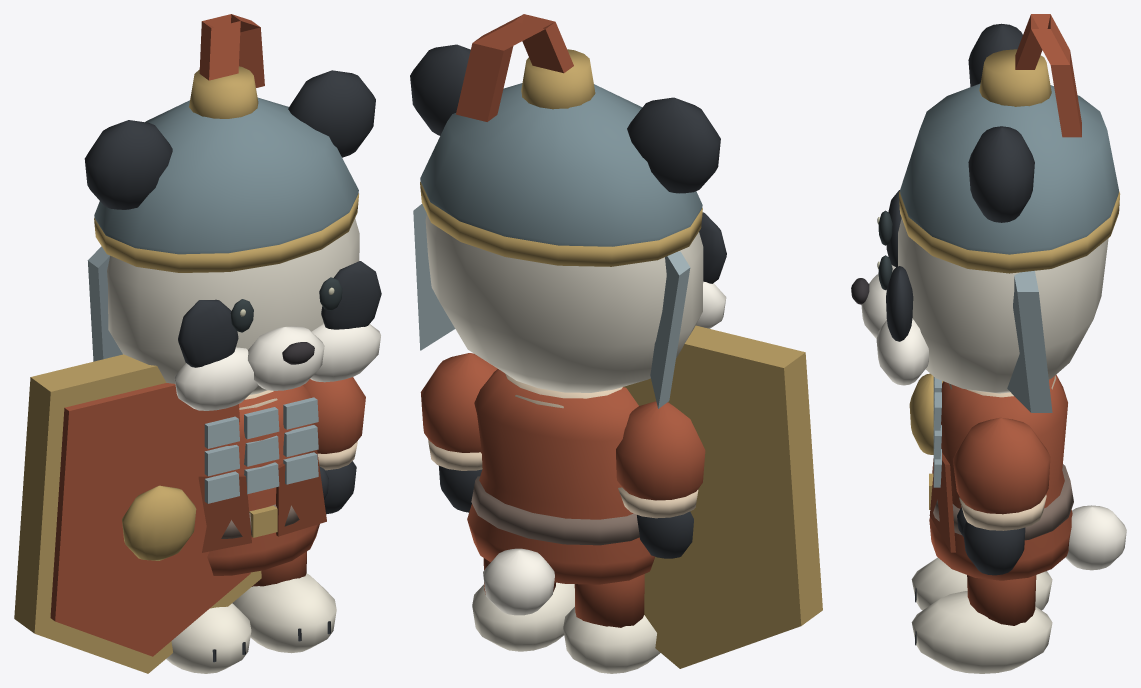
Rendered from guard.glb.
3 renders of one model, left to right at view 1: azimuth 30°, elevation 25°; view 2: azimuth 150°, elevation 25°; view 3: azimuth 270°, elevation 25°, orthographic. The views are drawn at different scales.
Parts seen in each view (by area): view 1: Regional shield face, Regional helmet, Animal cheek head, Shield gold rim, Panda round ear, Short folded tunic, Soft animal paw.001, Helmet brow band, Panda round ear.001, Shield boss, Soft animal paw, Red silk tassel (+26 smaller); view 2: Shield gold rim, Regional helmet, Animal cheek head, Short folded tunic, Puff sleeve, Panda round ear, Red silk tassel, Helmet brow band, Puff sleeve.001, Broad leather belt, Soft animal paw, Soft animal paw.001 (+13 smaller); view 3: Regional helmet, Animal cheek head, Short folded tunic, Puff sleeve.001, Soft animal paw.001, Panda round ear.001, Helmet brow band, Han side guard.001, Red silk tassel, Panda pom tail, Top knot socket, Stubby trouser.001 (+11 smaller).
Boxes of the visible parts, x1=… form: Regional shield face: x1=50, y1=383, x2=250, y2=656; Regional helmet: x1=94, y1=97, x2=358, y2=254; Animal cheek head: x1=107, y1=218, x2=359, y2=394; Shield gold rim: x1=14, y1=354, x2=261, y2=673; Panda round ear: x1=84, y1=120, x2=172, y2=209; Short folded tunic: x1=207, y1=385, x2=319, y2=575; Soft animal paw.001: x1=232, y1=573, x2=336, y2=653; Helmet brow band: x1=94, y1=193, x2=358, y2=272; Panda round ear.001: x1=288, y1=70, x2=375, y2=157; Shield boss: x1=122, y1=485, x2=196, y2=560; Soft animal paw: x1=166, y1=603, x2=251, y2=673; Red silk tassel: x1=199, y1=14, x2=264, y2=87; Shield gold rim: x1=623, y1=325, x2=822, y2=668; Regional helmet: x1=420, y1=83, x2=702, y2=246; Animal cheek head: x1=425, y1=214, x2=703, y2=392; Short folded tunic: x1=467, y1=369, x2=654, y2=584; Puff sleeve: x1=616, y1=401, x2=705, y2=500; Panda round ear: x1=627, y1=97, x2=720, y2=193; Red silk tassel: x1=456, y1=14, x2=573, y2=121; Helmet brow band: x1=420, y1=181, x2=702, y2=266; Puff sleeve.001: x1=420, y1=353, x2=497, y2=452; Broad leather belt: x1=471, y1=476, x2=639, y2=545; Soft animal paw: x1=563, y1=607, x2=660, y2=673; Soft animal paw.001: x1=472, y1=582, x2=574, y2=651; Regional helmet: x1=900, y1=83, x2=1118, y2=254; Animal cheek head: x1=898, y1=218, x2=1108, y2=393; Short folded tunic: x1=929, y1=374, x2=1072, y2=580; Puff sleeve.001: x1=953, y1=417, x2=1050, y2=514; Soft animal paw.001: x1=911, y1=591, x2=1052, y2=673; Panda round ear.001: x1=968, y1=126, x2=1034, y2=222; Helmet brow band: x1=899, y1=191, x2=1120, y2=273; Han side guard.001: x1=1007, y1=270, x2=1052, y2=412; Red silk tassel: x1=1015, y1=14, x2=1081, y2=137; Panda pom tail: x1=1065, y1=505, x2=1126, y2=570; Top knot socket: x1=979, y1=49, x2=1051, y2=106; Stubby trouser.001: x1=967, y1=575, x2=1036, y2=625.
Size of the model in its own units: 1.1 by 1.78 by 0.705.
